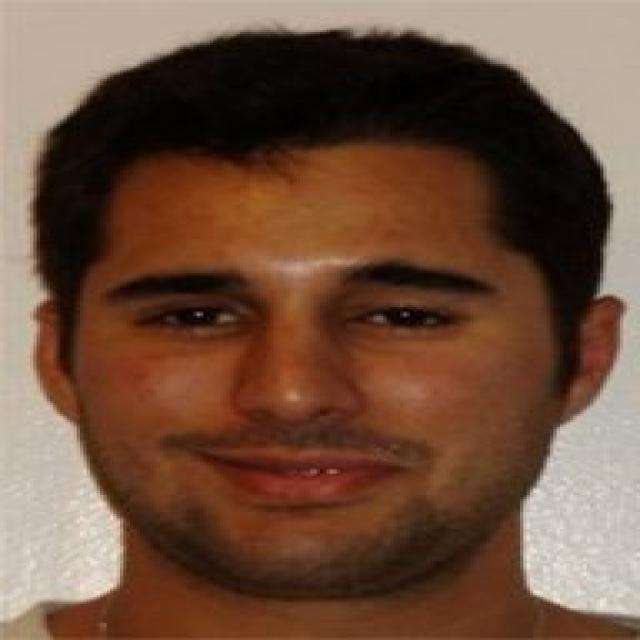stroke_face: (36, 100, 618, 596)
